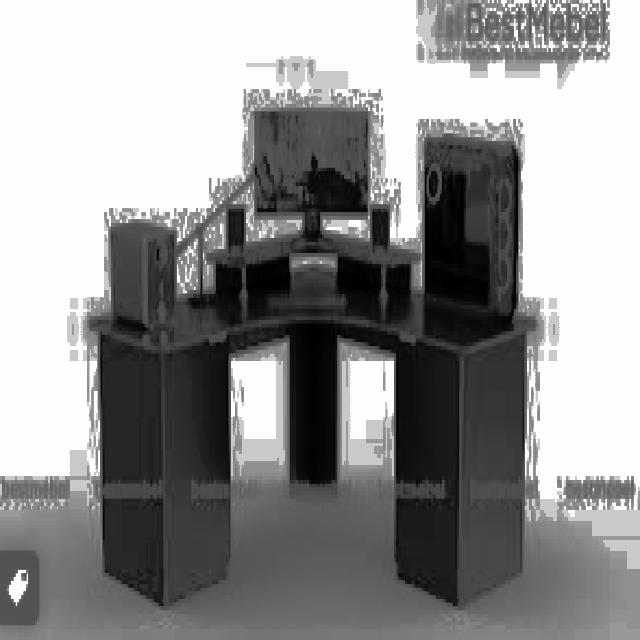table: (87, 264, 536, 610)
